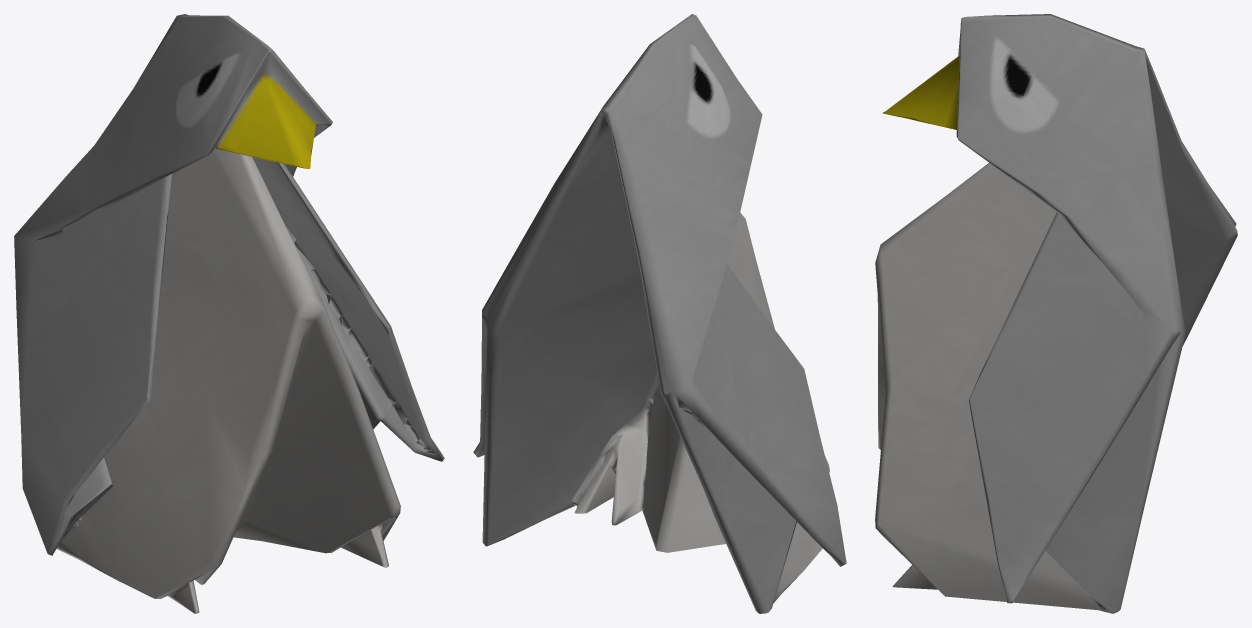
The model's file is penguin_FDRemesh_LOD2.fbx.
3 views of the same model, side by side, from view 1: azimuth 30°, elevation 25°; view 2: azimuth 150°, elevation 25°; view 3: azimuth 270°, elevation 25° (orthographic). The views are drawn at different scales.
Visible parts, largest first — view 1: Simplygon_Proxy_6cff3fd5-9544-4e4c-998b-f40f69be2e9a; view 2: Simplygon_Proxy_6cff3fd5-9544-4e4c-998b-f40f69be2e9a; view 3: Simplygon_Proxy_6cff3fd5-9544-4e4c-998b-f40f69be2e9a.
Boxes of the visible parts, x1,y1,x2,y2 form: Simplygon_Proxy_6cff3fd5-9544-4e4c-998b-f40f69be2e9a: [14, 14, 444, 613]; Simplygon_Proxy_6cff3fd5-9544-4e4c-998b-f40f69be2e9a: [473, 14, 846, 613]; Simplygon_Proxy_6cff3fd5-9544-4e4c-998b-f40f69be2e9a: [875, 14, 1237, 613].
Size of the model in its own units: 2.77 by 3.54 by 2.2.
Materials: 1 (1 with a texture image).
